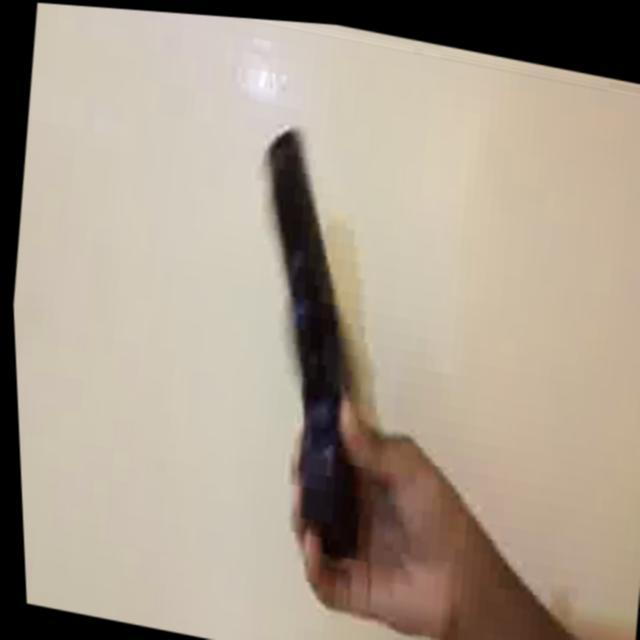weapon: (215, 112, 418, 578)
